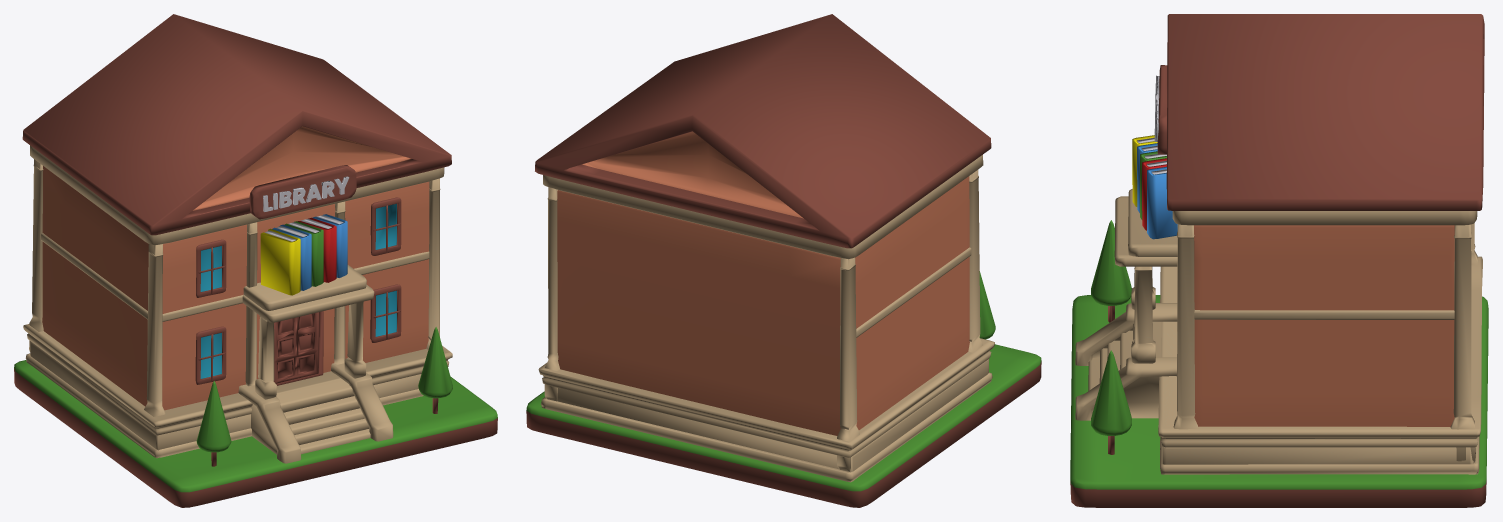
The model's file is Library.glb.
3 views of the same model, side by side, from view 1: azimuth 30°, elevation 25°; view 2: azimuth 150°, elevation 25°; view 3: azimuth 270°, elevation 25° (orthographic). The views are drawn at different scales.
Visible parts, largest first — view 1: 3d66-Editable_Poly-21534437-001; view 2: 3d66-Editable_Poly-21534437-001; view 3: 3d66-Editable_Poly-21534437-001.
Boxes of the visible parts, <box> form: 3d66-Editable_Poly-21534437-001: <box>14,14,497,507</box>; 3d66-Editable_Poly-21534437-001: <box>526,14,1041,507</box>; 3d66-Editable_Poly-21534437-001: <box>1070,14,1488,507</box>.
Bounding box in the file's own units: 1.39 × 1.38 × 1.3.
Materials: 1 (1 with a texture image).
